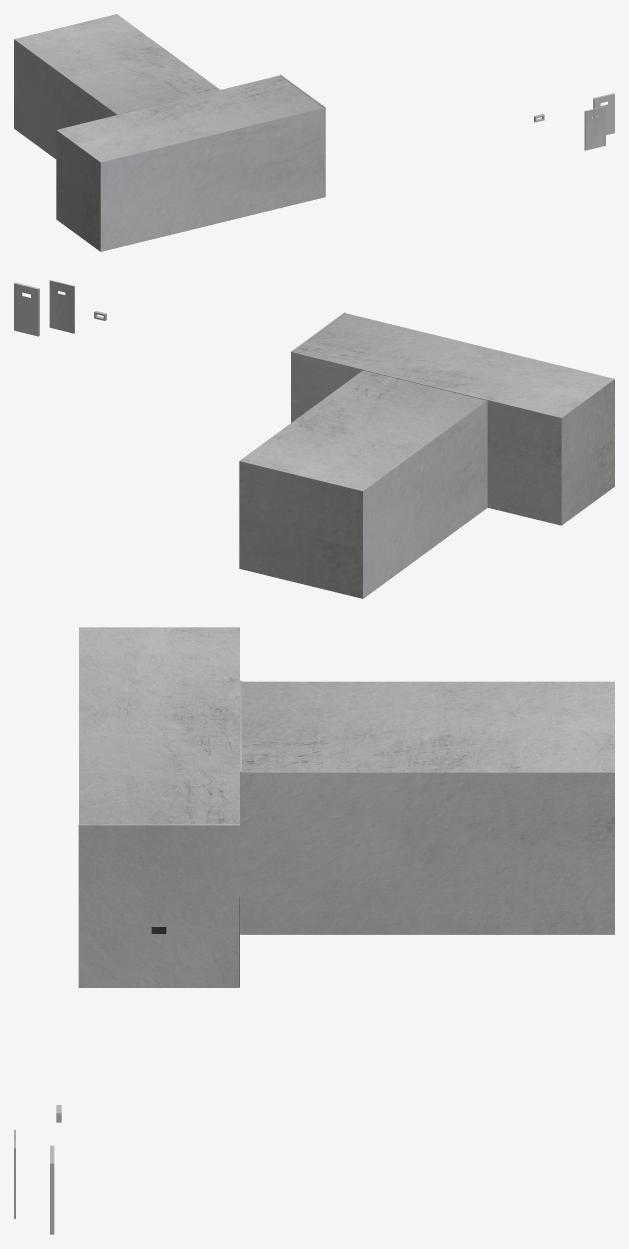
The model's file is prison 1.fbx.
3 views of the same model, one above another, from view 1: azimuth 30°, elevation 25°; view 2: azimuth 150°, elevation 25°; view 3: azimuth 270°, elevation 25° (orthographic). The views are drawn at different scales.
Parts seen in each view (by area): view 1: walls.001, walls, wall-1.001, Cube.013; view 2: walls, walls.001, Cube.013, wall-1.001; view 3: walls, walls.001.
Part boxes in pixels (bbox=[...]): walls.001: bbox=[56, 75, 325, 251]; walls: bbox=[14, 14, 218, 158]; wall-1.001: bbox=[584, 106, 605, 150]; Cube.013: bbox=[593, 93, 614, 135]; walls: bbox=[239, 370, 486, 598]; walls.001: bbox=[291, 312, 614, 525]; Cube.013: bbox=[14, 282, 39, 336]; wall-1.001: bbox=[49, 280, 74, 333]; walls: bbox=[241, 681, 614, 934]; walls.001: bbox=[78, 627, 239, 987].
Bounding box in the file's own units: 8268 × 1407 × 4695.
